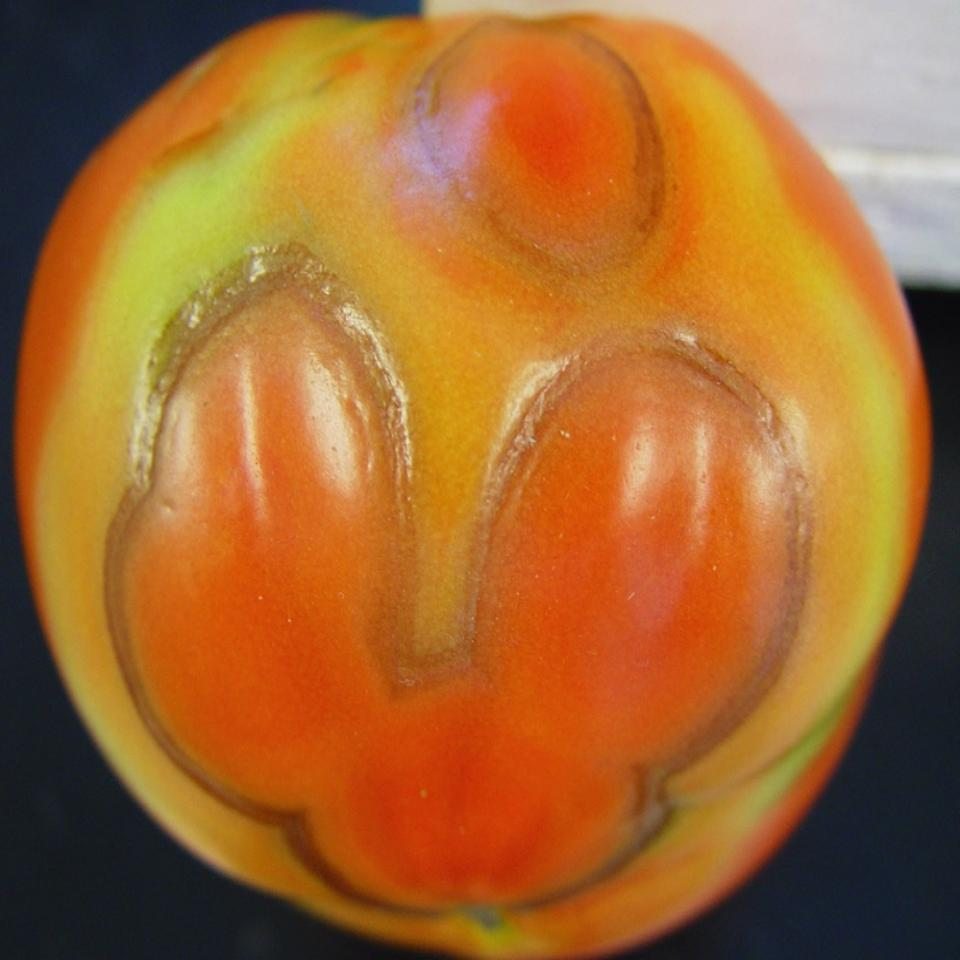Spotted wilt Virus: (13, 12, 930, 959)
